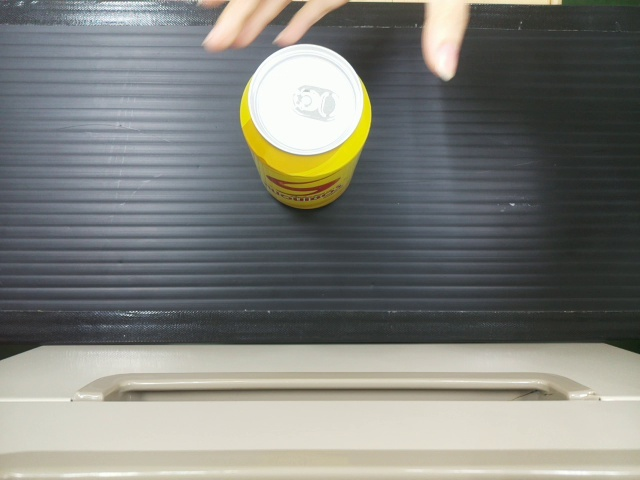can: (235, 45, 371, 209)
